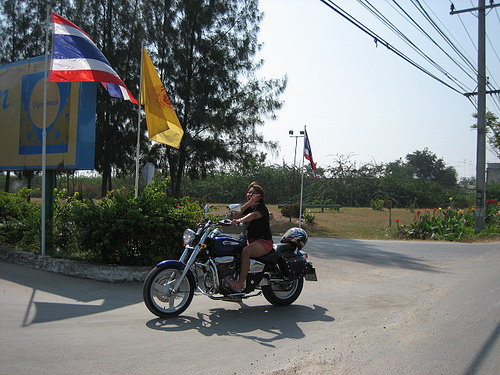without_mask: (245, 185, 261, 207)
